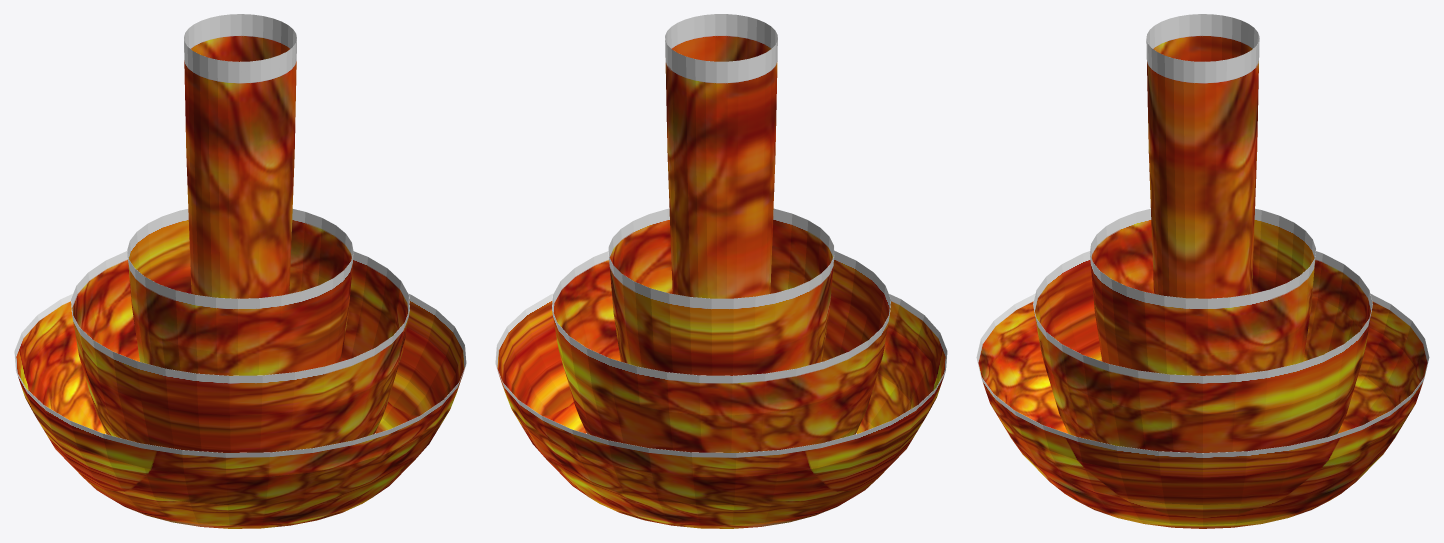
The model's file is aoe-impact-fx-flame.fbx.
3 renders of one model, left to right at view 1: azimuth 30°, elevation 25°; view 2: azimuth 150°, elevation 25°; view 3: azimuth 270°, elevation 25°, orthographic.
Visible parts, largest first — view 1: Sphere, Sphere.001, aoe-fx, Sphere.002; view 2: Sphere, Sphere.001, aoe-fx, Sphere.002; view 3: Sphere, Sphere.001, aoe-fx, Sphere.002.
Part boxes in pixels (x1,y1,x2,y2): Sphere: [14, 293, 466, 528]; Sphere.001: [71, 251, 409, 452]; aoe-fx: [184, 14, 296, 298]; Sphere.002: [127, 209, 353, 375]; Sphere: [495, 293, 947, 528]; Sphere.001: [552, 250, 890, 452]; aoe-fx: [665, 14, 777, 298]; Sphere.002: [608, 208, 834, 375]; Sphere: [976, 293, 1429, 528]; Sphere.001: [1033, 251, 1372, 452]; aoe-fx: [1146, 14, 1259, 298]; Sphere.002: [1090, 208, 1315, 375].
Size of the model in its own units: 193 by 200 by 193.
Materials: 1 (1 with a texture image).
